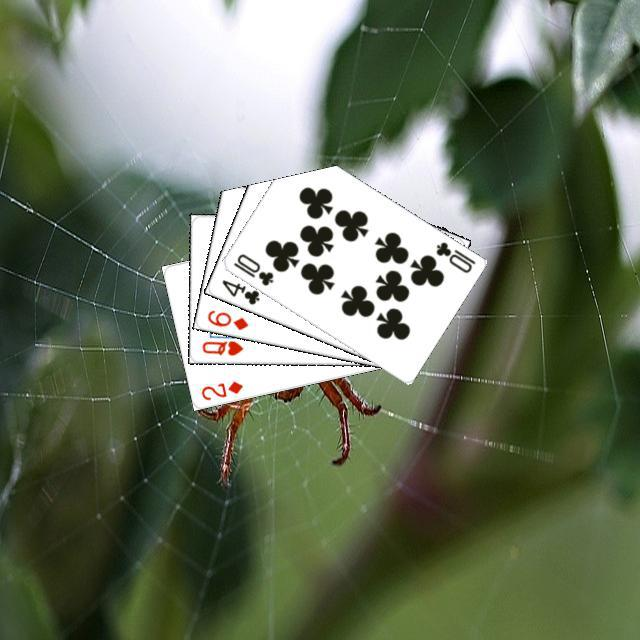10c: (228, 249, 275, 287), (431, 237, 477, 275)
2d: (196, 376, 245, 402)
4c: (217, 275, 262, 306)
6d: (202, 305, 250, 332)
Qh: (197, 336, 245, 357)
